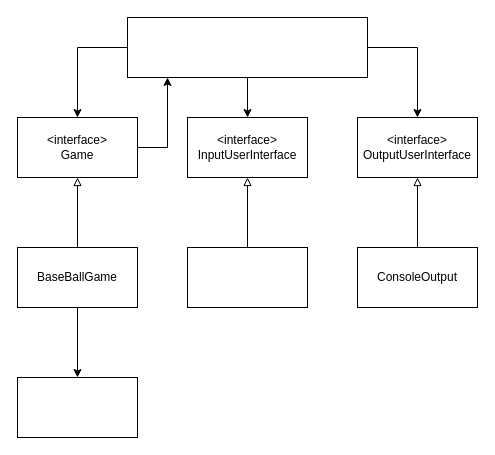
This 495x455 diagram has some shape labels left out. Each missing label, with the centre of its shape:
"BaseBallNumberList" goes at pixel 77 407.
"ConsoleInput" goes at pixel 247 277.
"GameManager" goes at pixel 247 47.
